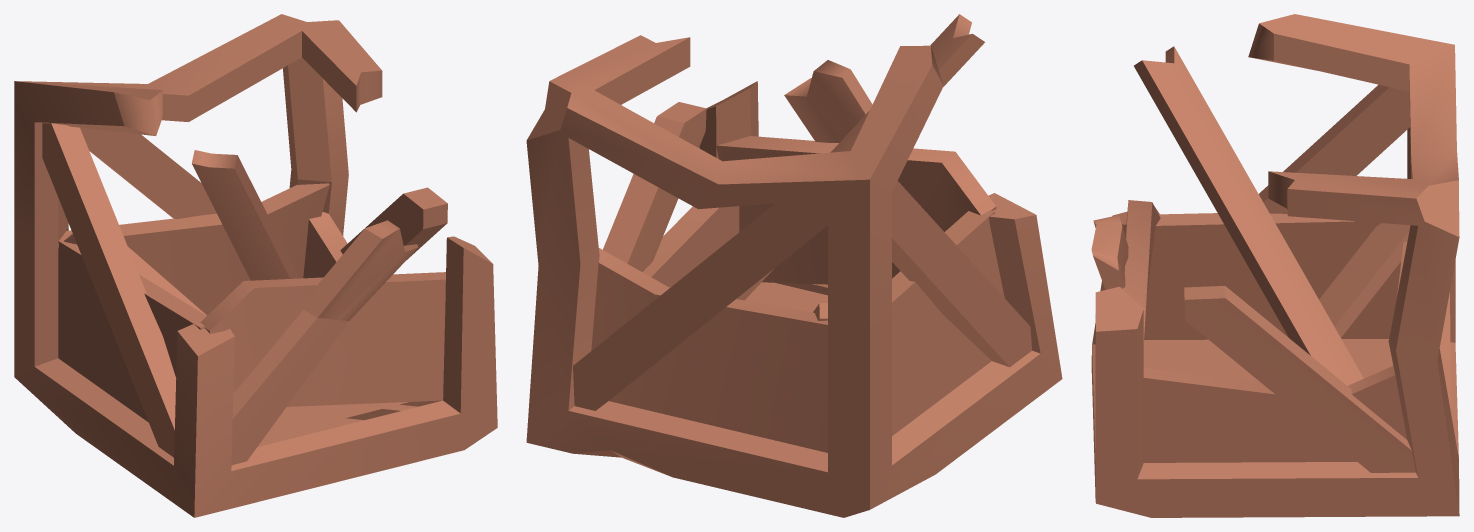
File: Box_Ruins_2.fbx
3 renders of one model, left to right at view 1: azimuth 30°, elevation 25°; view 2: azimuth 150°, elevation 25°; view 3: azimuth 270°, elevation 25°, orthographic. The views are drawn at different scales.
Parts seen in each view (by area): view 1: SM_Prop_Crate_Open_01.003; view 2: SM_Prop_Crate_Open_01.003; view 3: SM_Prop_Crate_Open_01.003.
Boxes of the visible parts, x1,y1,x2,y2 form: SM_Prop_Crate_Open_01.003: [14, 14, 497, 517]; SM_Prop_Crate_Open_01.003: [526, 14, 1062, 517]; SM_Prop_Crate_Open_01.003: [1091, 14, 1459, 517].
Bounding box in the file's own units: 82.83 × 89.36 × 82.86.
